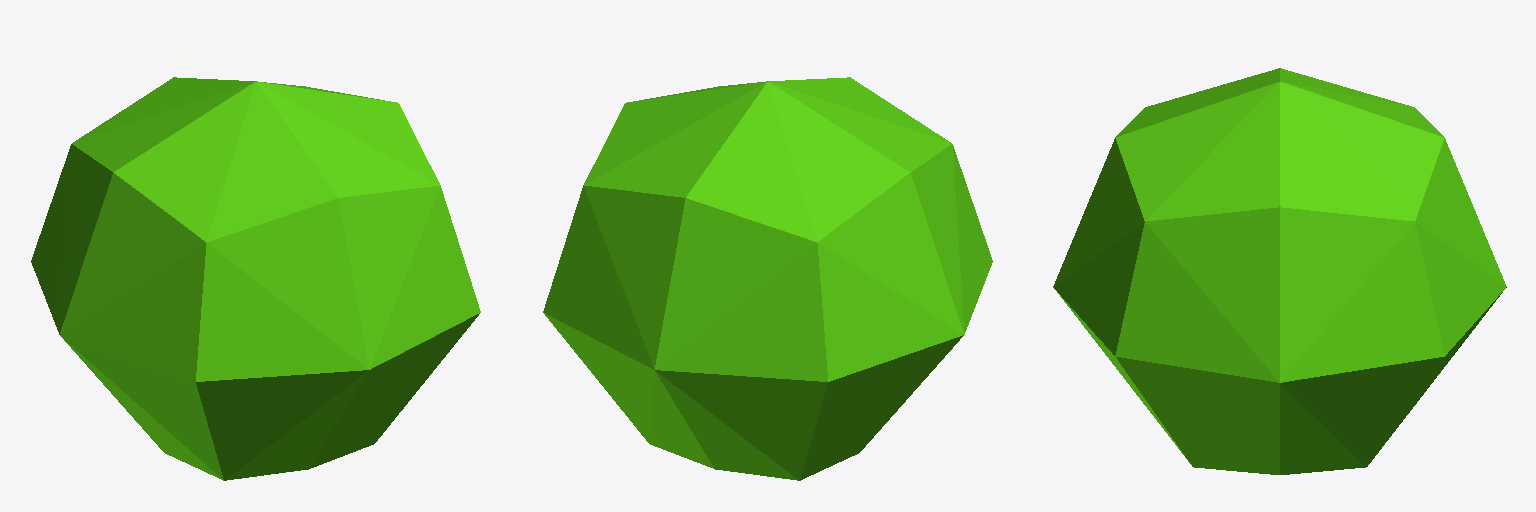
The picture shows the model from 3 angles: view 1: azimuth 30°, elevation 25°; view 2: azimuth 150°, elevation 25°; view 3: azimuth 270°, elevation 25°; orthographic projection.
Visible parts, largest first — view 1: Bush_Cube.005; view 2: Bush_Cube.005; view 3: Bush_Cube.005.
Boxes of the visible parts, box(x1,y1,x2,y2) form: Bush_Cube.005: box(31, 77, 480, 480); Bush_Cube.005: box(543, 77, 992, 480); Bush_Cube.005: box(1053, 68, 1506, 474).
Size of the model in its own units: 1.89 by 1.6 by 1.89.
Materials: 1 (1 with a texture image).